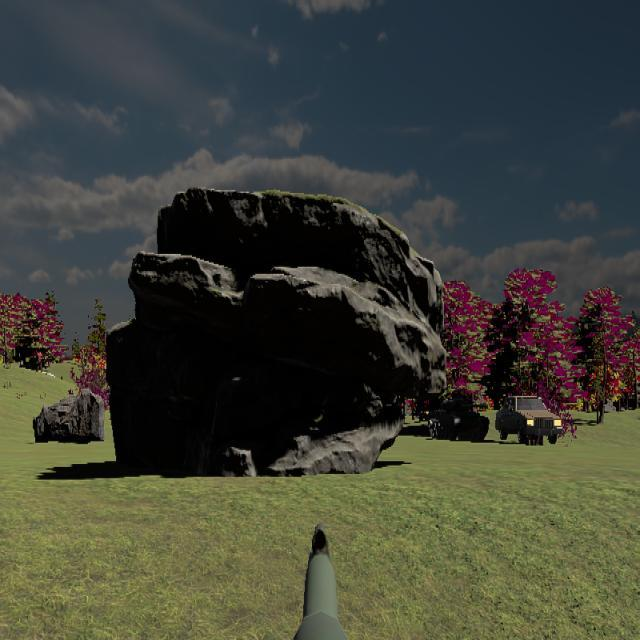car: (495, 394, 563, 445)
